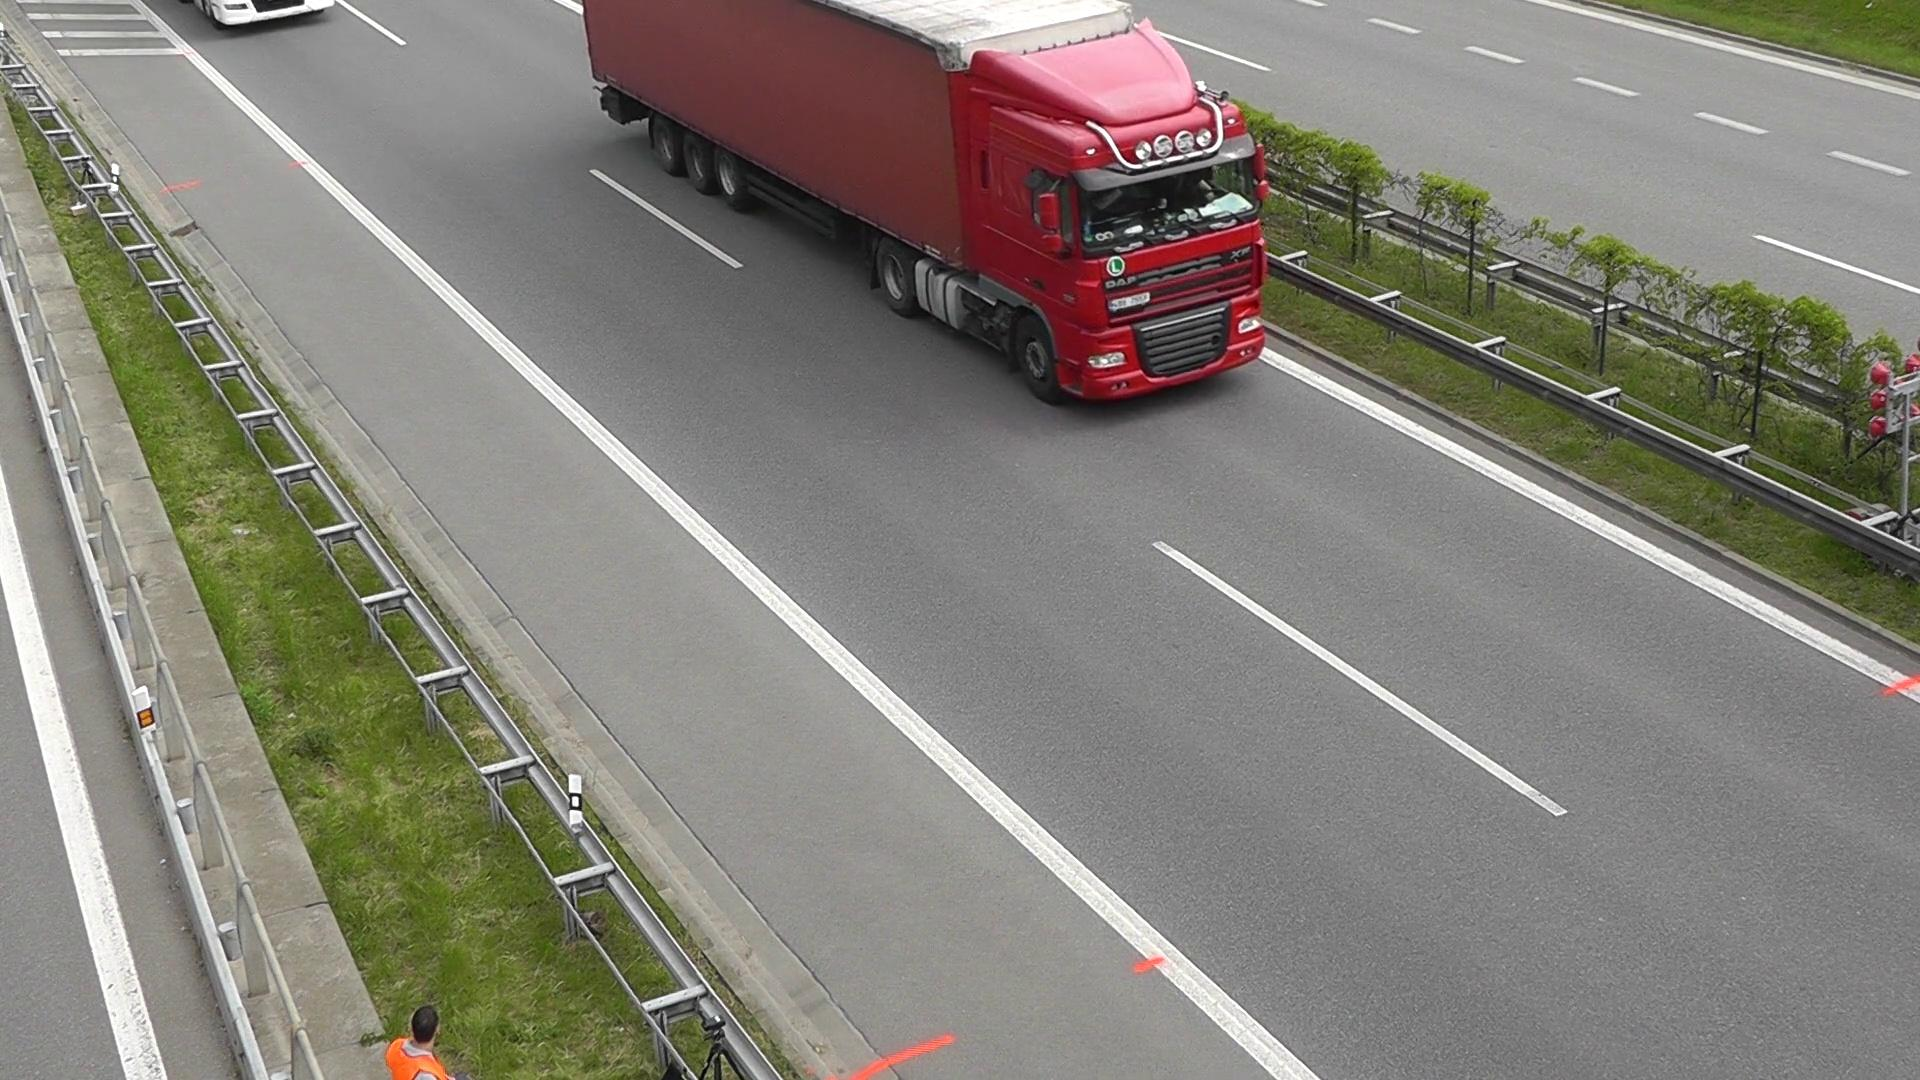Truck: (571, 0, 1312, 410)
